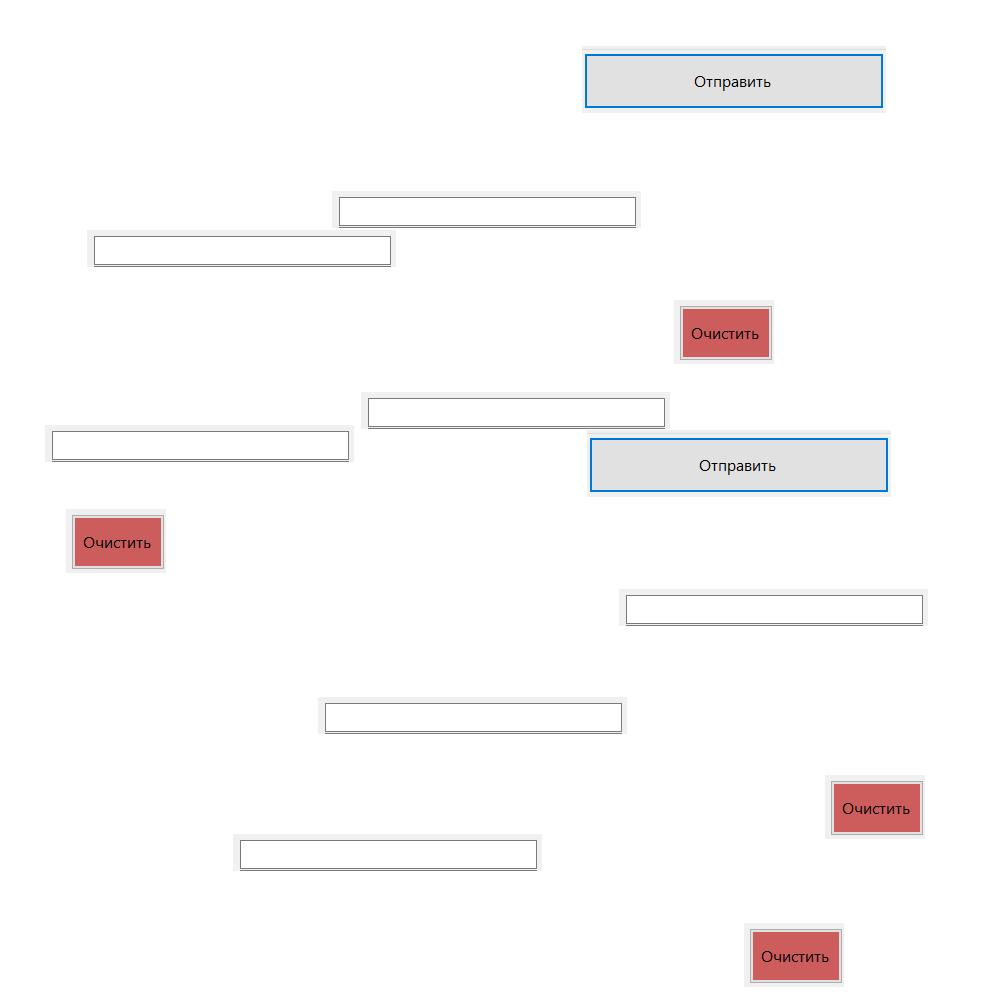Button: (582, 46, 886, 113), (587, 430, 891, 497), (744, 923, 844, 987), (825, 775, 925, 839), (674, 300, 774, 364), (66, 509, 166, 573)
EditText-: (361, 392, 670, 429), (318, 697, 627, 734), (619, 589, 928, 626), (45, 425, 354, 462), (233, 834, 542, 871), (332, 191, 641, 228), (87, 230, 396, 267)
